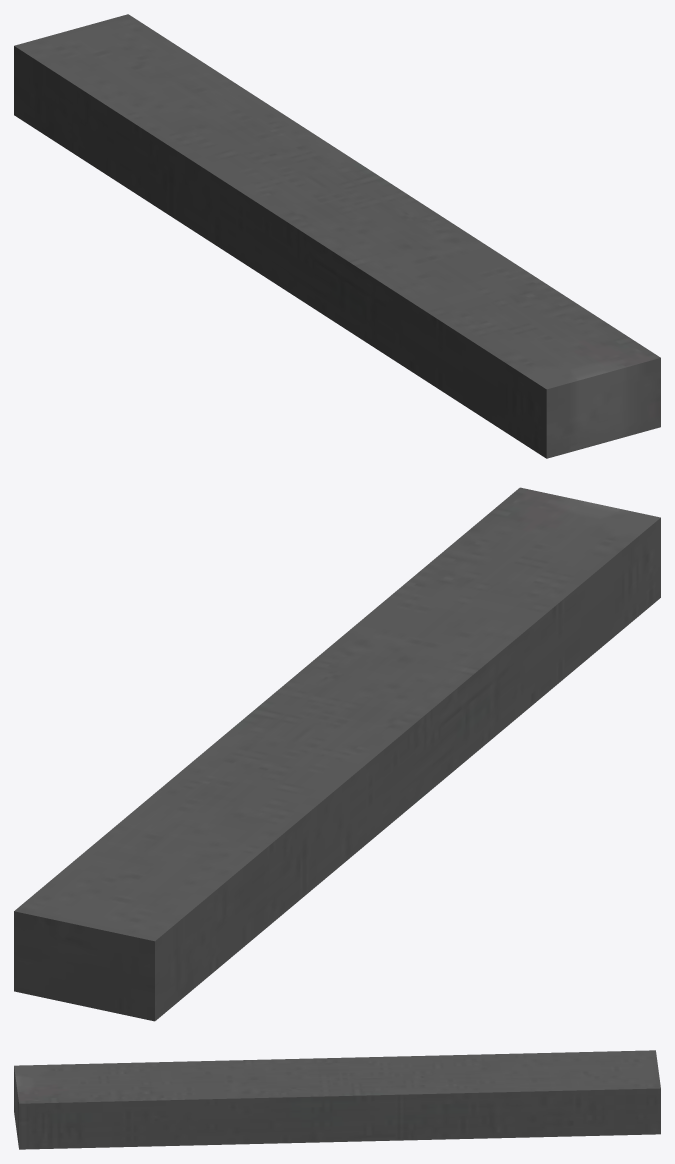
File: frame__back_upright_0.glb
3 renders of one model, top to bottom at view 1: azimuth 30°, elevation 25°; view 2: azimuth 150°, elevation 25°; view 3: azimuth 270°, elevation 25°, orthographic. The views are drawn at different scales.
Visible parts, largest first — view 1: world; view 2: world; view 3: world.
Boxes of the visible parts, box(x1,y1,x2,y2) form: world: box(14, 14, 660, 458); world: box(14, 487, 660, 1021); world: box(14, 1050, 660, 1149).
Bounding box in the file's own units: 0.0699 × 0.028 × 0.3578.
1 material, 1 textured.
